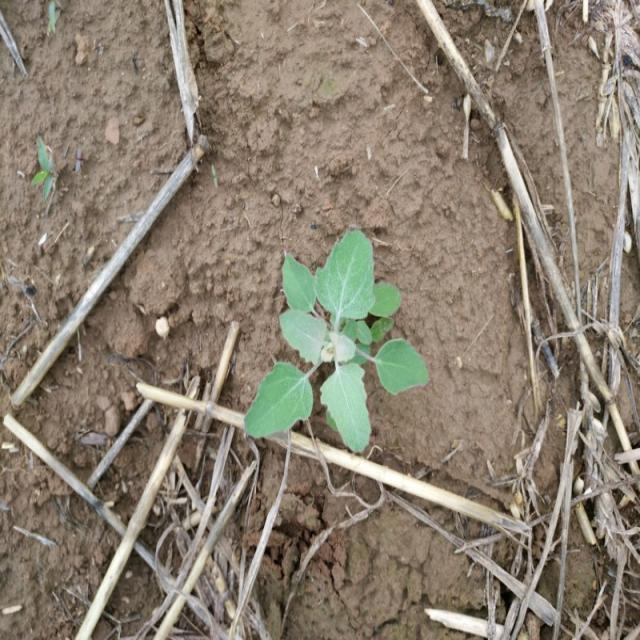goosefoots: (218, 210, 446, 458)
